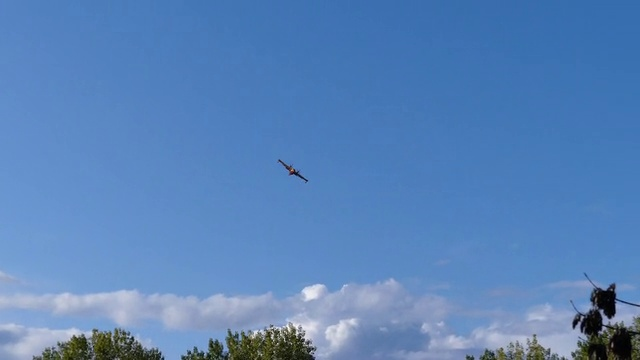plane: (278, 158, 310, 183)
